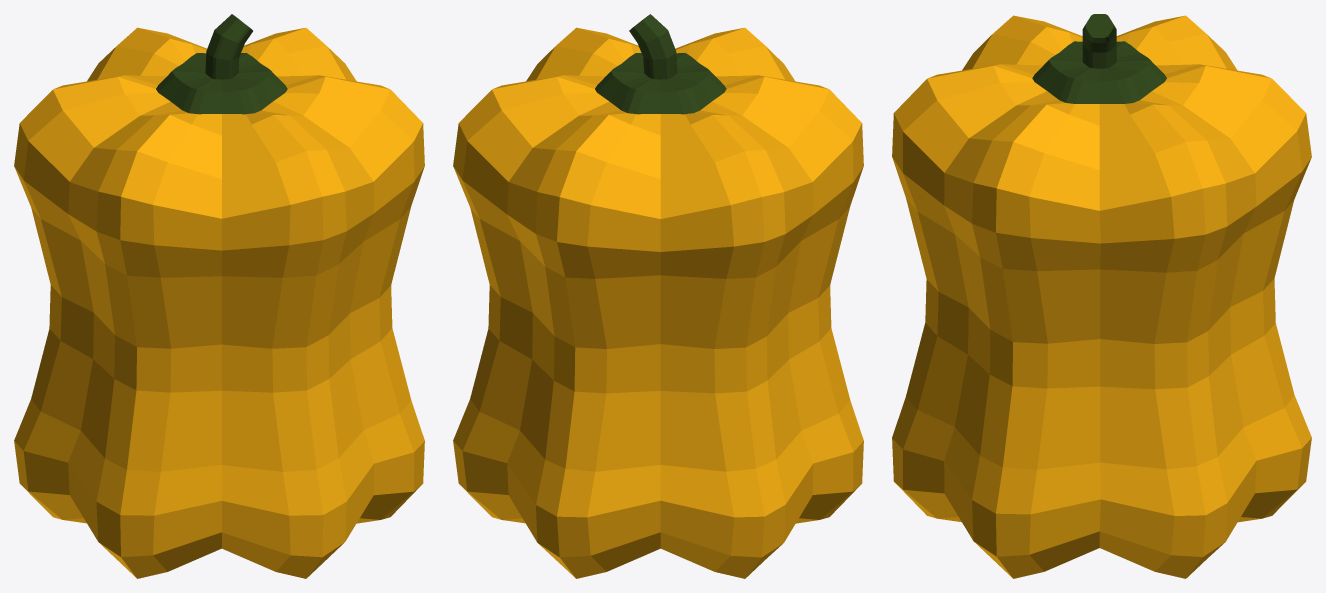
File: bell_pepper_yellow.glb
3 renders of one model, left to right at view 1: azimuth 30°, elevation 25°; view 2: azimuth 150°, elevation 25°; view 3: azimuth 270°, elevation 25°, orthographic. The views are drawn at different scales.
Parts seen in each view (by area): view 1: bell_pepper_yellow; view 2: bell_pepper_yellow; view 3: bell_pepper_yellow.
Boxes of the visible parts, x1,y1,x2,y2 form: bell_pepper_yellow: [14, 14, 424, 578]; bell_pepper_yellow: [453, 14, 863, 578]; bell_pepper_yellow: [892, 14, 1311, 578].
Bounding box in the file's own units: 0.8257 × 1.24 × 0.9104.
Materials: 1 (1 with a texture image).
